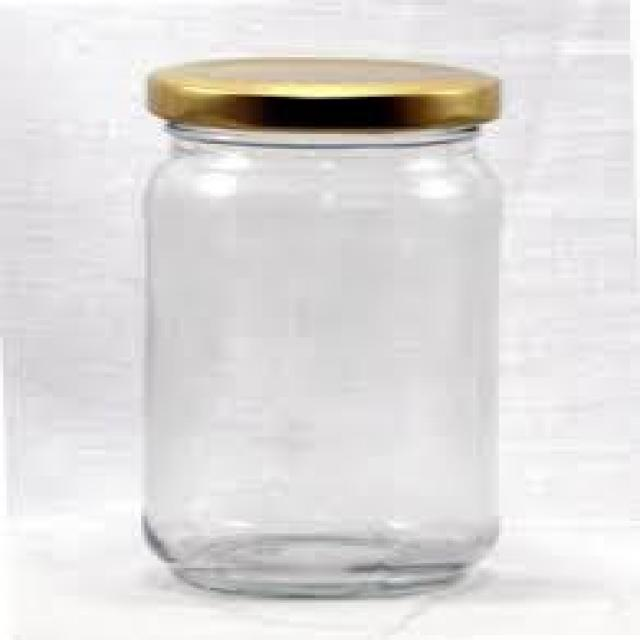glass: (133, 54, 517, 606)
